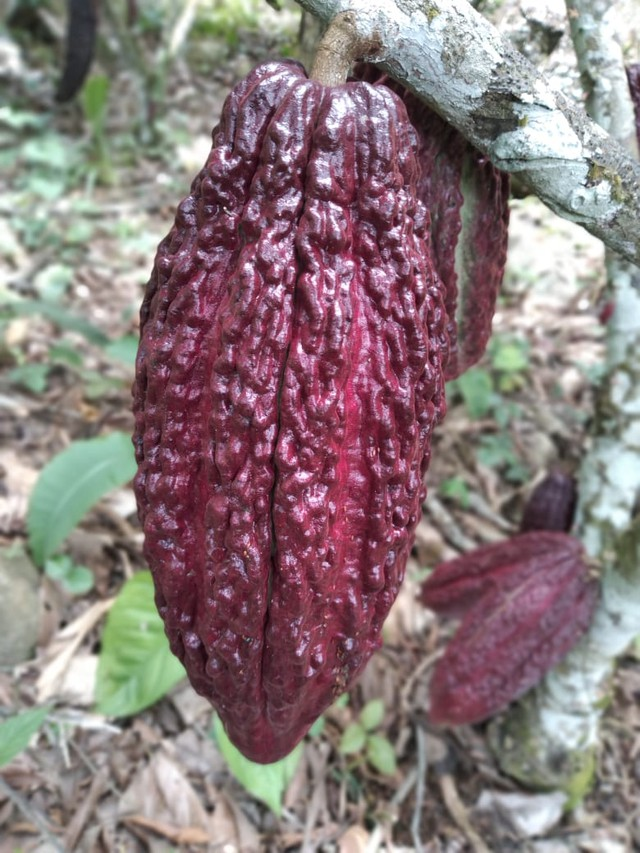Health: (122, 51, 458, 765)
